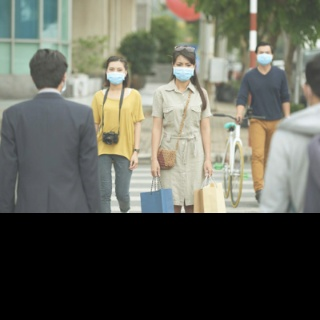with_mask: (173, 60, 194, 82), (106, 65, 125, 87), (257, 49, 272, 66)
